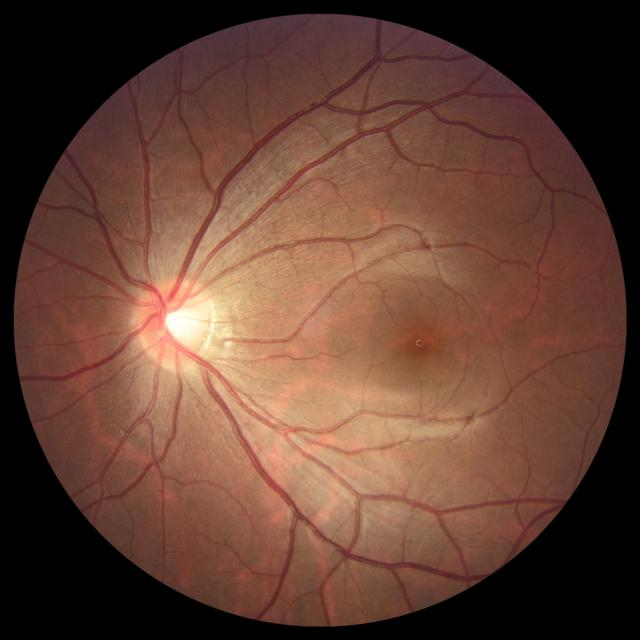OC: (163, 303, 202, 342)
OD: (134, 276, 213, 368)
